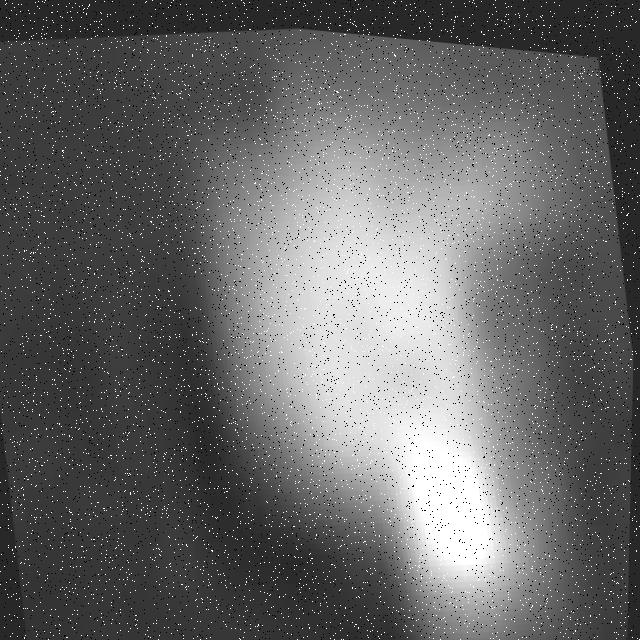person: (181, 15, 594, 640)
